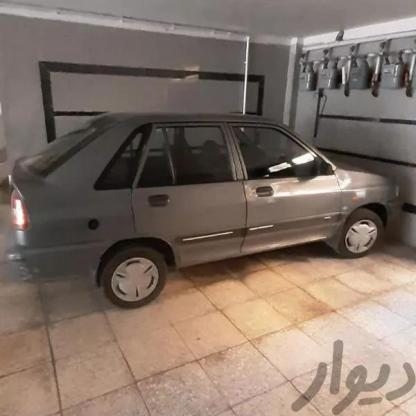Car: (0, 114, 399, 302)
